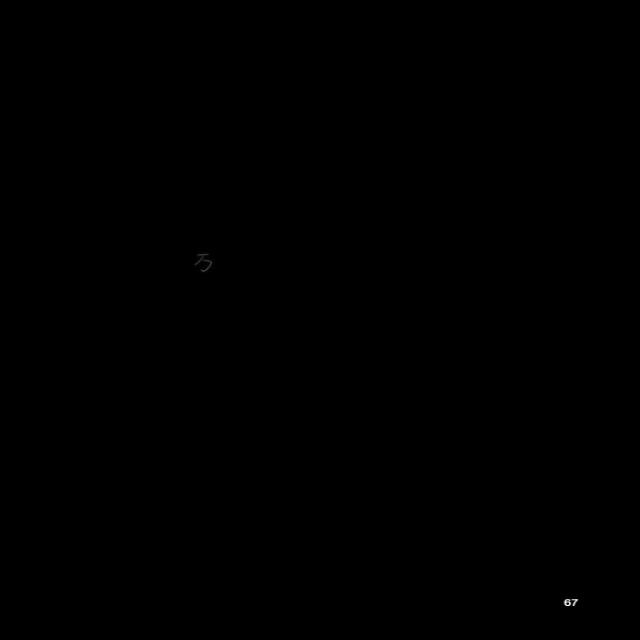10000 -a ten thousand-: (188, 250, 216, 274)
